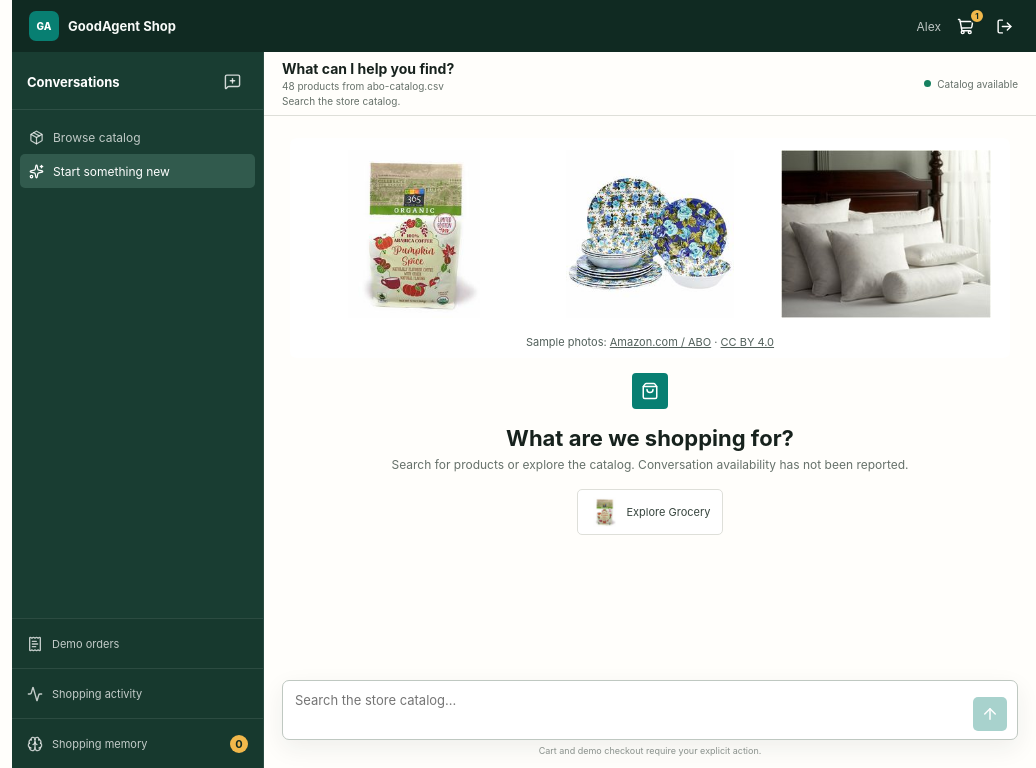
ShopperApp › does not claim the inventory hold is still active after a test decline
Click the button named "Open cart with 1 items" at x=965, y=26, box [950,11,980,41]
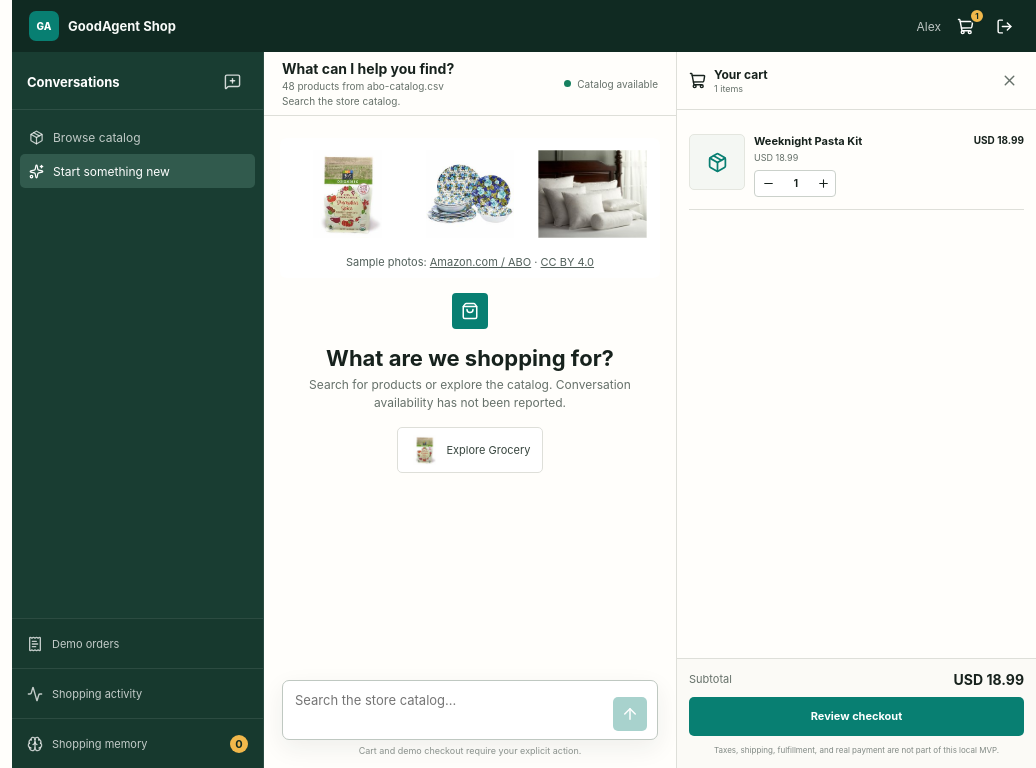
Expected: the button "Review checkout" is enabled
Click the button "Review checkout" at x=856, y=716, box [689,697,1024,736]
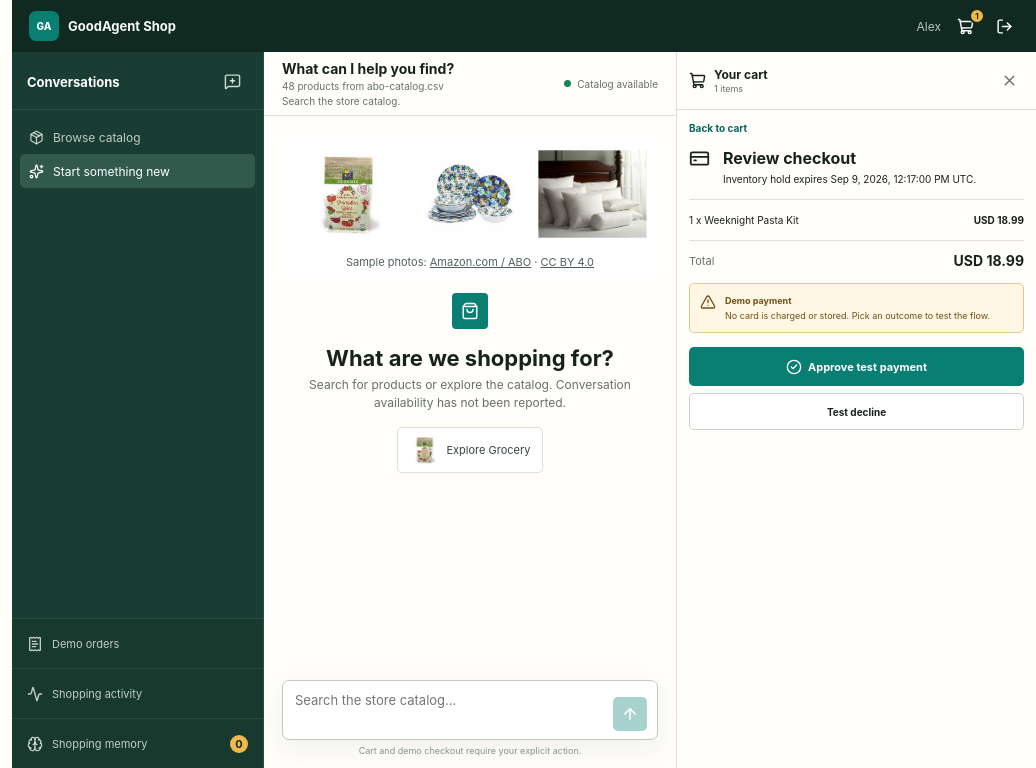
Click the button "Test decline" at x=856, y=412, box [689,393,1024,430]
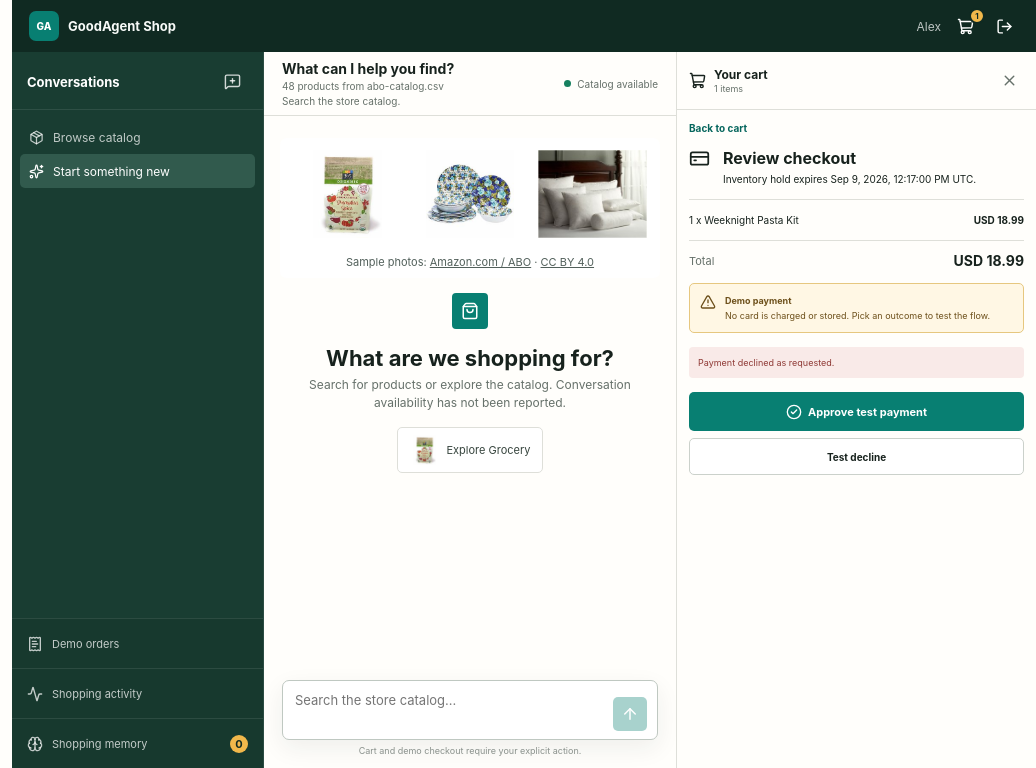
Expected: the text "Payment declined as requested." is shown, [689,347,1024,378]
